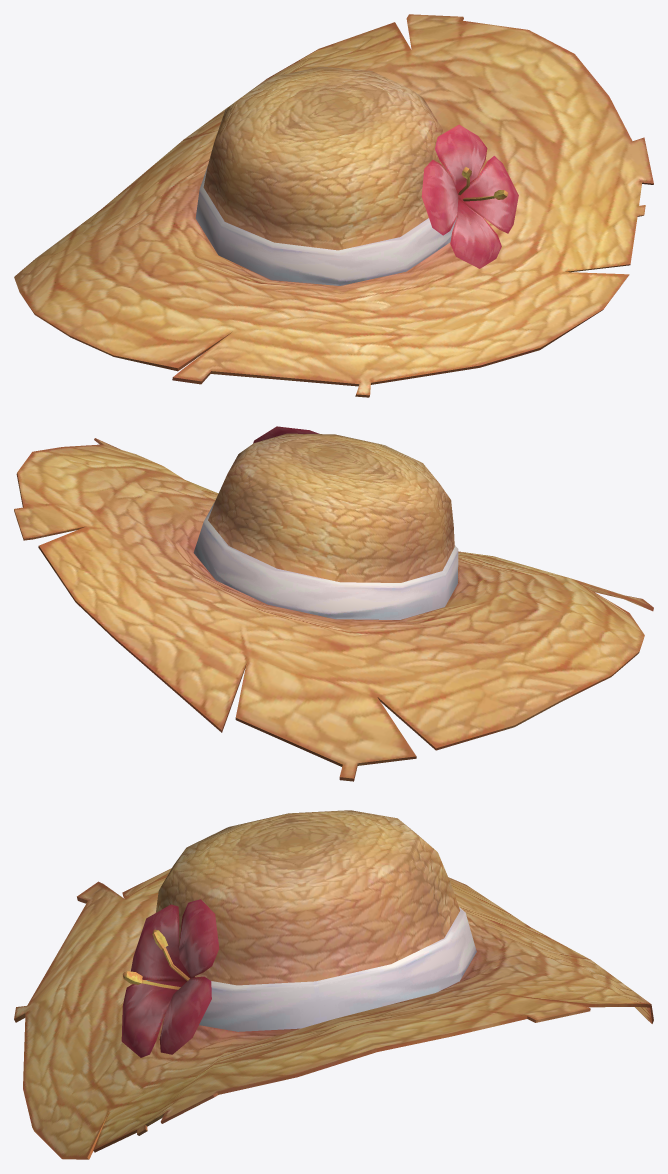
File: maya2sketchfab.fbx
3 renders of one model, top to bottom at view 1: azimuth 30°, elevation 25°; view 2: azimuth 150°, elevation 25°; view 3: azimuth 270°, elevation 25°, orthographic. The views are drawn at different scales.
Parts seen in each view (by area): view 1: Accessory_Head_Strawhat01; view 2: Accessory_Head_Strawhat01; view 3: Accessory_Head_Strawhat01.
Boxes of the visible parts, x1,y1,x2,y2 form: Accessory_Head_Strawhat01: [14, 14, 653, 397]; Accessory_Head_Strawhat01: [14, 426, 653, 781]; Accessory_Head_Strawhat01: [14, 810, 653, 1159].
Size of the model in its own units: 0.4889 by 0.1691 by 0.3889.
1 material, 1 textured.
